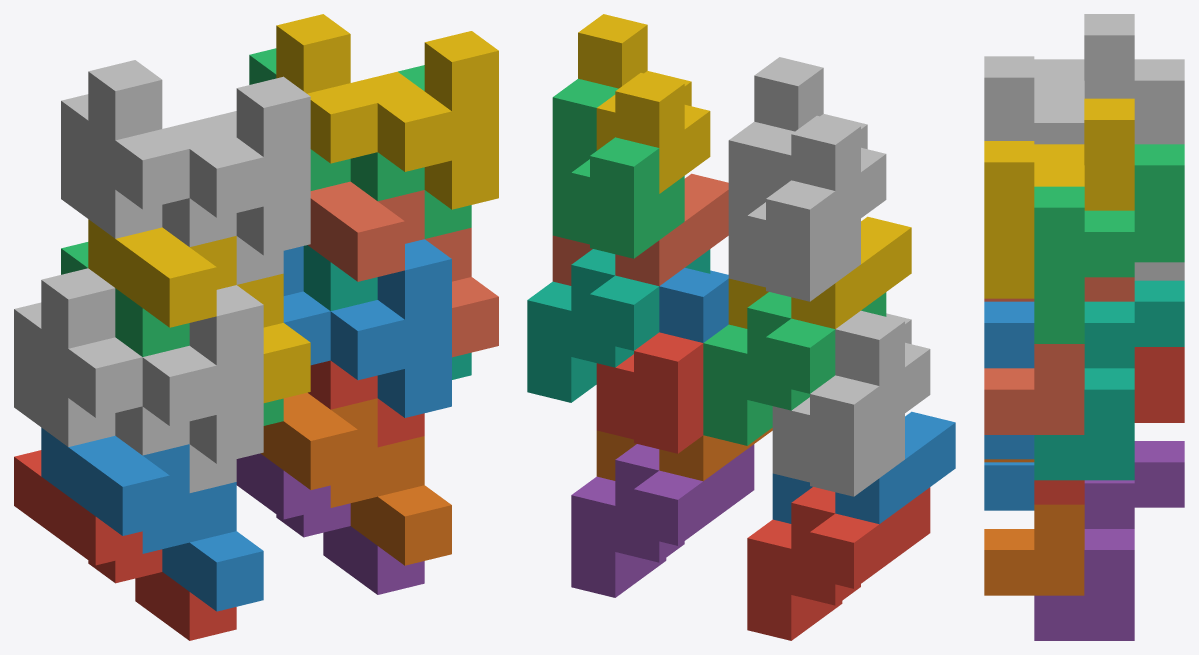
Rendered from tiling.obj.
3 renders of one model, left to right at view 1: azimuth 30°, elevation 25°; view 2: azimuth 150°, elevation 25°; view 3: azimuth 270°, elevation 25°, orthographic. The views are drawn at different scales.
Visible parts, largest first — view 1: copy_2_domain_4, copy_2_domain_8, copy_2_domain_2, copy_1_domain_2, copy_2_domain_6, copy_1_domain_6, copy_1_domain_4, copy_1_domain_8, copy_1_domain_1, copy_2_domain_3, copy_2_domain_1, copy_1_domain_5 (+4 smaller); view 2: copy_1_domain_1, copy_1_domain_5, copy_2_domain_3, copy_2_domain_7, copy_1_domain_3, copy_1_domain_7, copy_2_domain_4, copy_2_domain_8, copy_2_domain_1, copy_2_domain_5, copy_1_domain_4, copy_2_domain_2 (+4 smaller); view 3: copy_2_domain_7, copy_2_domain_8, copy_1_domain_7, copy_1_domain_5, copy_2_domain_4, copy_1_domain_8, copy_1_domain_6, copy_2_domain_3, copy_2_domain_5, copy_2_domain_6, copy_1_domain_2, copy_2_domain_1 (+2 smaller).
Part boxes in pixels (box(x1,y1,x2,y2)): copy_2_domain_4: box(88, 60, 310, 255); copy_2_domain_8: box(276, 14, 498, 209); copy_2_domain_2: box(41, 268, 263, 463); copy_1_domain_2: box(41, 427, 263, 611); copy_2_domain_6: box(283, 239, 451, 417); copy_1_domain_6: box(261, 392, 451, 565); copy_1_domain_4: box(88, 219, 310, 402); copy_1_domain_8: box(308, 181, 498, 357); copy_1_domain_1: box(14, 450, 236, 640); copy_2_domain_3: box(61, 94, 283, 284); copy_2_domain_1: box(14, 302, 236, 492); copy_1_domain_5: box(236, 453, 424, 594); copy_1_domain_1: box(747, 487, 930, 640); copy_1_domain_5: box(571, 444, 754, 597); copy_2_domain_3: box(728, 121, 860, 301); copy_2_domain_7: box(552, 78, 684, 258); copy_1_domain_3: box(703, 292, 886, 445); copy_1_domain_7: box(527, 249, 710, 402); copy_2_domain_4: box(754, 57, 886, 236); copy_2_domain_8: box(578, 14, 710, 193); copy_2_domain_1: box(772, 375, 904, 496); copy_2_domain_5: box(596, 332, 703, 453); copy_1_domain_4: box(728, 216, 911, 329); copy_2_domain_2: box(835, 310, 930, 431); copy_2_domain_7: box(1034, 144, 1184, 343); copy_2_domain_8: box(984, 98, 1134, 298); copy_1_domain_7: box(1034, 280, 1184, 480); copy_1_domain_5: box(1034, 441, 1184, 640); copy_2_domain_4: box(984, 14, 1134, 140); copy_1_domain_8: box(984, 277, 1134, 434); copy_1_domain_6: box(984, 459, 1084, 595); copy_2_domain_3: box(1034, 59, 1184, 144); copy_2_domain_5: box(1034, 347, 1184, 504); copy_2_domain_6: box(984, 301, 1034, 459); copy_1_domain_2: box(984, 462, 1034, 510); copy_2_domain_1: box(1134, 262, 1184, 280).
Bounding box in the file's own units: 8 × 11 × 4.
